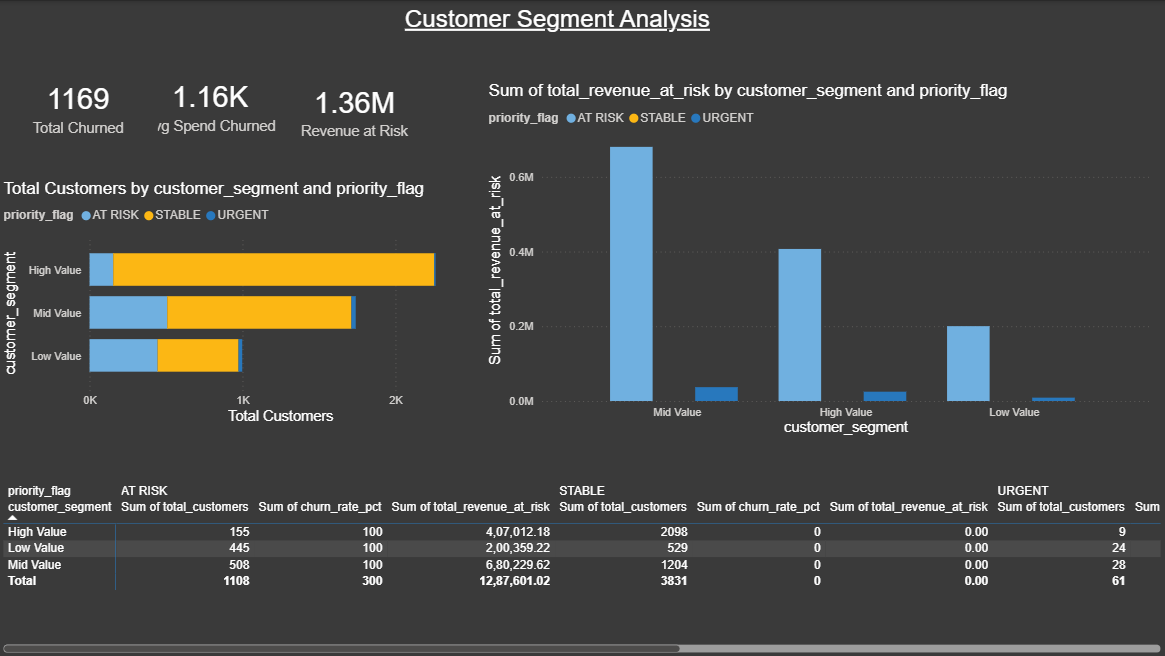

What the dashboard file says about the page in this screenshot:
{"tool":"powerbi","page":{"name":"Page 2","canvas":[1280,720],"ordinal":1},"visuals":[{"type":"textbox","box":[440.5,0,673.8,41.2],"z":0},{"type":"card","fields":{"Values":["fct_churn.Avg Spend Churned"]},"box":[142.7,41.2,178.4,145.5],"z":1000},{"type":"card","fields":{"Values":["fct_churn.Total Churned"]},"box":[0,41.2,174.3,149.6],"z":2000},{"type":"card","fields":{"Values":["fct_churn.Revenue at Risk"]},"box":[303.3,45.3,174.3,149.6],"z":3000},{"type":"barChart","fields":{"Category":["fct_churn.customer_segment"],"Y":["fct_churn.Total Customers"],"Series":["fct_churn.priority_flag"]},"box":[0,194.9,532.4,274.4],"z":4000},{"type":"clusteredColumnChart","fields":{"Y":["Sum(agg_churn_by_segment.total_revenue_at_risk)"],"Series":["agg_churn_by_segment.priority_flag"],"Category":["agg_churn_by_segment.customer_segment"]},"box":[532.4,87.8,735.5,393.8],"z":5000},{"type":"pivotTable","fields":{"Rows":["agg_churn_by_segment.customer_segment"],"Columns":["agg_churn_by_segment.priority_flag"],"Values":["Sum(agg_churn_by_segment.total_customers)","Sum(agg_churn_by_segment.churn_rate_pct)","Sum(agg_churn_by_segment.total_revenue_at_risk)"]},"box":[0,524.2,1280.3,196.2],"z":6000}]}

Visuals, with their boxes in screenshot pixels (x1, y1, x2, y2), scaled from the page's 1280x720 canvas onto the 1165x656 screenshot:
textbox: Rect(401, 0, 1014, 38)
card - fct_churn.Avg Spend Churned: Rect(130, 38, 292, 170)
card - fct_churn.Total Churned: Rect(0, 38, 159, 174)
card - fct_churn.Revenue at Risk: Rect(276, 41, 435, 178)
barChart - fct_churn.customer_segment x fct_churn.Total Customers: Rect(0, 178, 485, 428)
clusteredColumnChart - Sum(agg_churn_by_segment.total_revenue_at_risk) x agg_churn_by_segment.priority_flag: Rect(485, 80, 1154, 439)
pivotTable - agg_churn_by_segment.customer_segment x agg_churn_by_segment.priority_flag: Rect(0, 478, 1164, 655)
